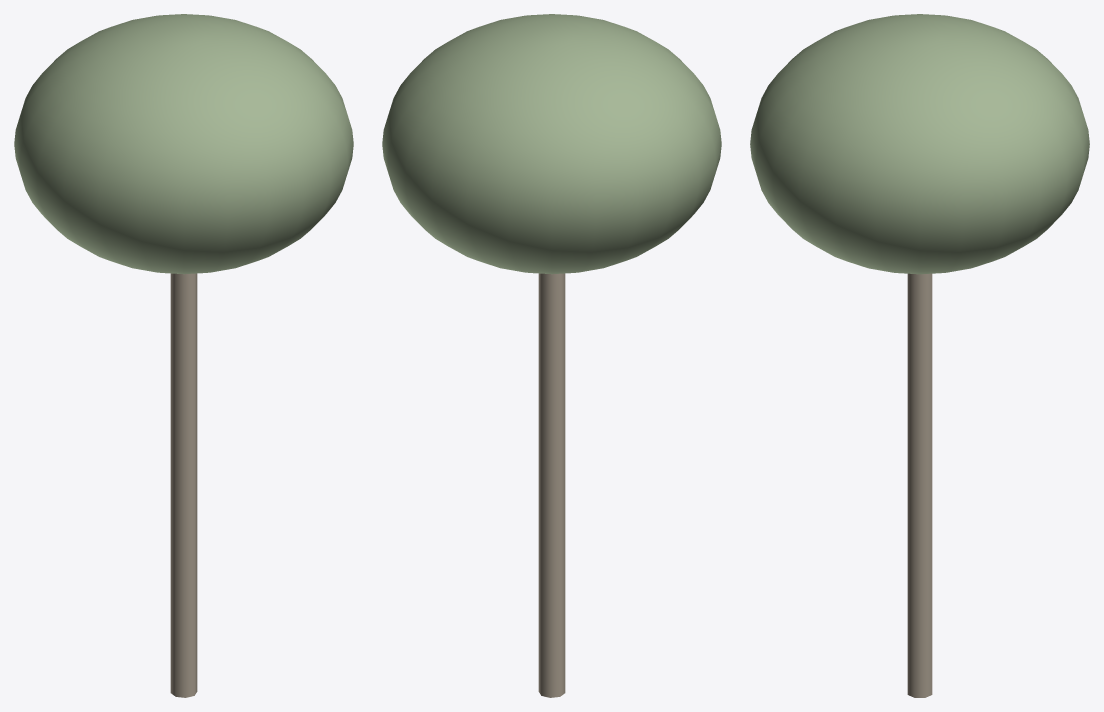
The model's file is PhoenixDactylifera.glb.
The picture shows the model from 3 angles, left to right: view 1: azimuth 30°, elevation 25°; view 2: azimuth 150°, elevation 25°; view 3: azimuth 270°, elevation 25°; orthographic projection.
Parts seen in each view (by area): view 1: Date_Palm__Schematic_LOD3; view 2: Date_Palm__Schematic_LOD3; view 3: Date_Palm__Schematic_LOD3.
Boxes of the visible parts, x1,y1,x2,y2 form: Date_Palm__Schematic_LOD3: (14,14,353,697); Date_Palm__Schematic_LOD3: (382,14,721,697); Date_Palm__Schematic_LOD3: (750,14,1089,697).
Bounding box in the file's own units: 10.14 × 21.65 × 10.14.
